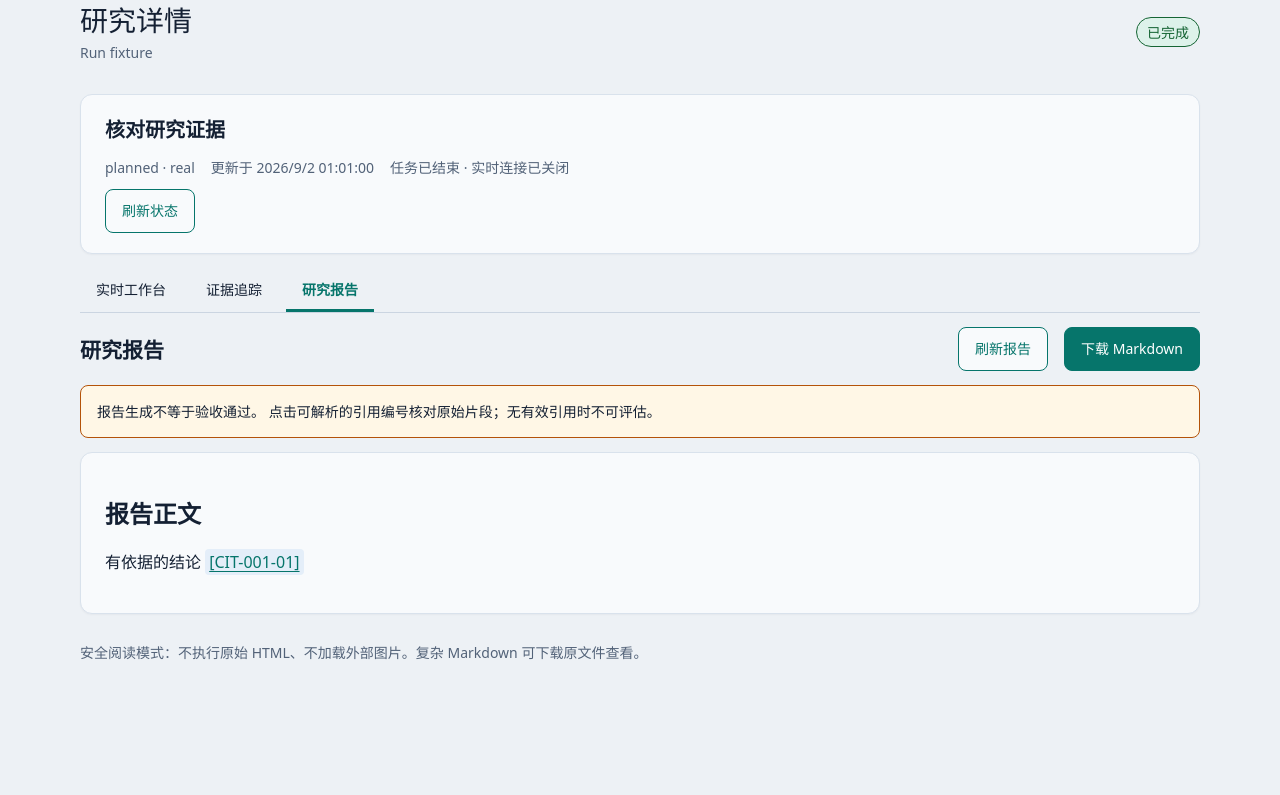
Test: connects report citations to their exact evidence and Trace
Click the link "[CIT-001-01]" at (254,562), box [205,549,304,575]
(page scrolled)
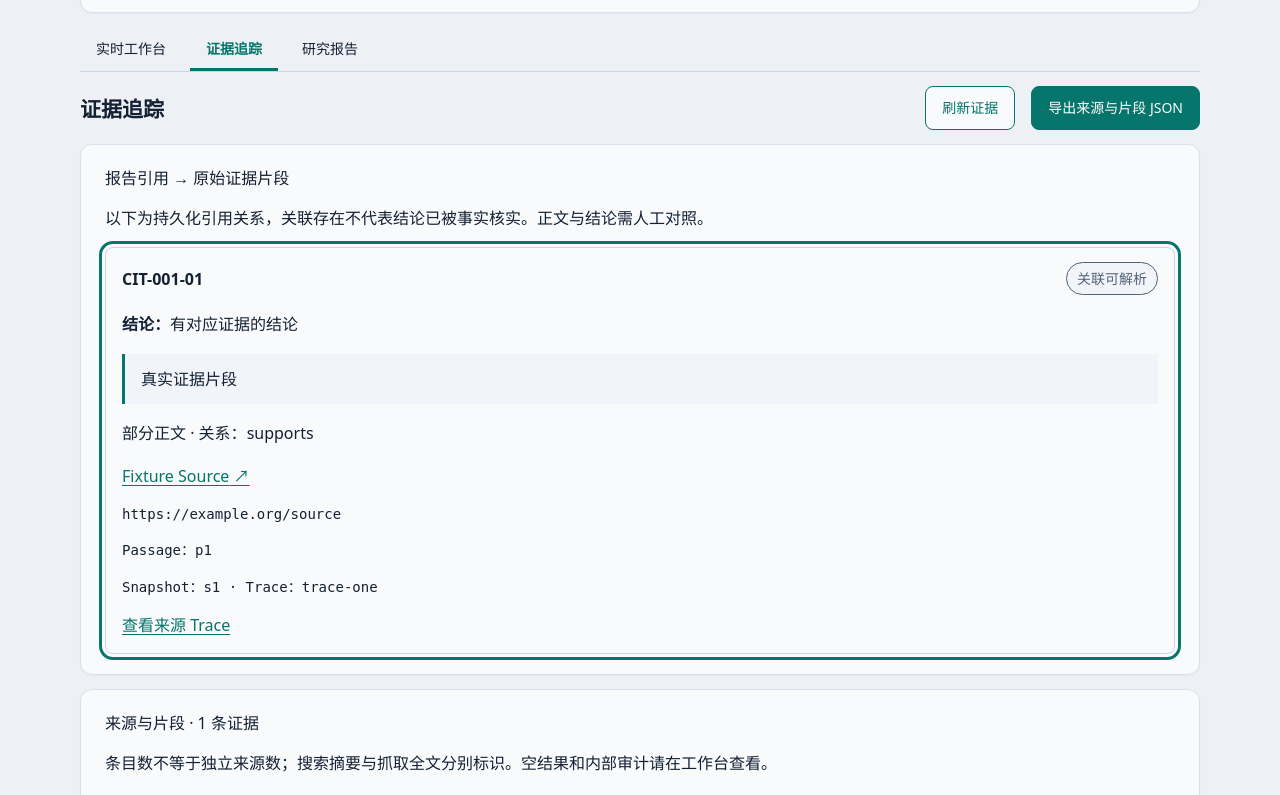
Expected: the heading "CIT-001-01" is shown, [122,266,203,292]
Expected: the text "真实证据片段" is shown, [122,354,1158,404]
